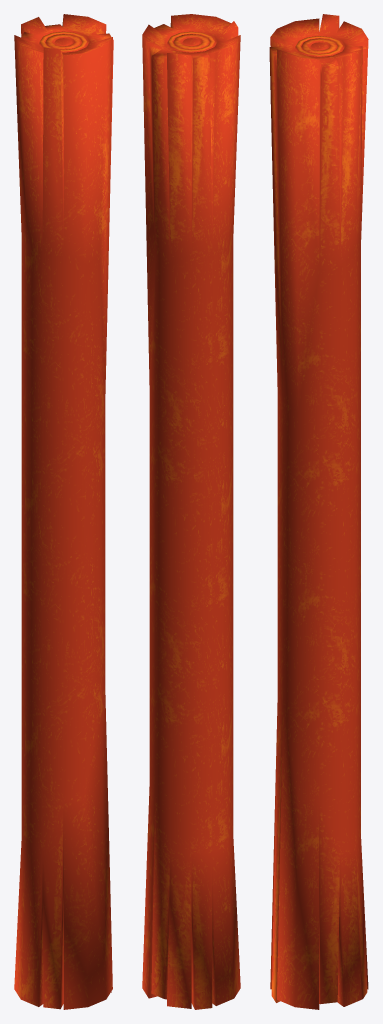
File: Medium Pole.fbx
The picture shows the model from 3 angles, left to right: view 1: azimuth 90°, elevation 25°; view 2: azimuth 210°, elevation 25°; view 3: azimuth 270°, elevation 25°; orthographic projection.
Parts seen in each view (by area): view 1: Medium Pole; view 2: Medium Pole; view 3: Medium Pole.
Boxes of the visible parts, x1=… form: Medium Pole: x1=14, y1=14, x2=113, y2=1009; Medium Pole: x1=142, y1=14, x2=240, y2=1009; Medium Pole: x1=269, y1=14, x2=368, y2=1009.
Size of the model in its own units: 55.86 by 603 by 56.34.
